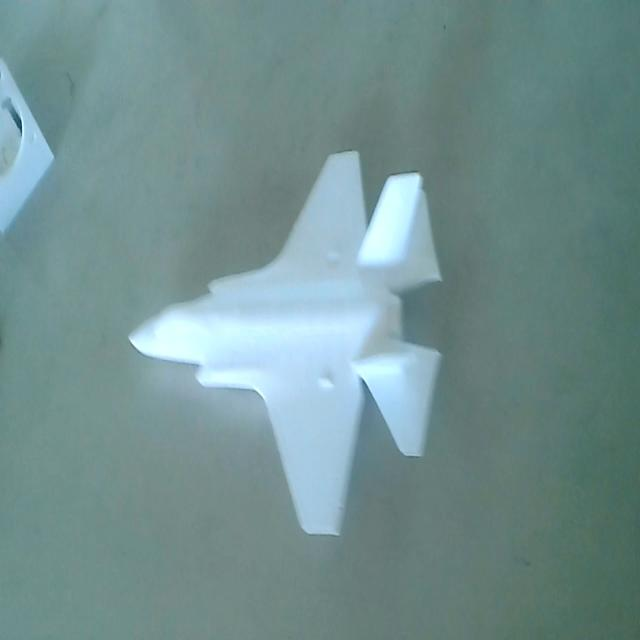Jet: (127, 140, 447, 547)
